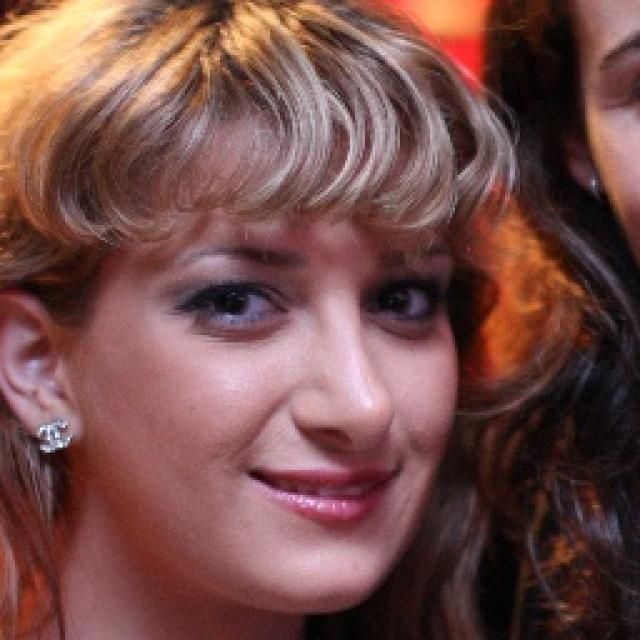earlobe: (25, 394, 84, 450)
eye: (194, 282, 279, 326), (366, 283, 436, 321)
nose: (292, 428, 382, 463)
wholeear: (0, 290, 83, 450)
